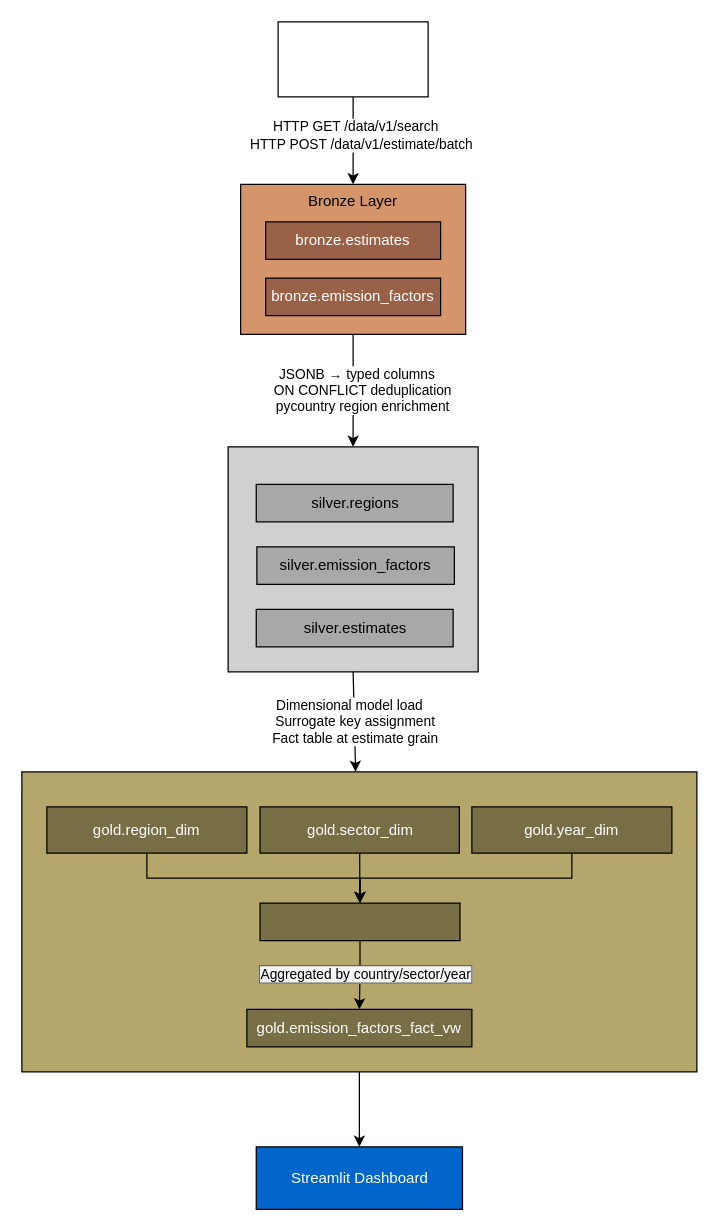
Image size: 719x1231. Some labels were removed from this diagram. Here are the shapes that lost their labels. From the top down, the box of each, then its label:
(277, 21, 428, 97): Climatiq API
(227, 446, 478, 672): Silver Layer
(21, 771, 697, 1072): Gold Layer
(259, 902, 460, 941): gold.emission_factors_fact
